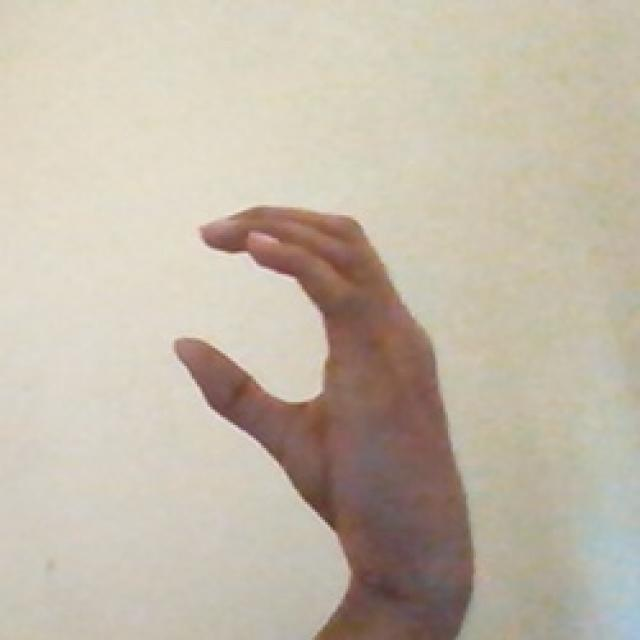Alphabet-C: (171, 188, 460, 592)
